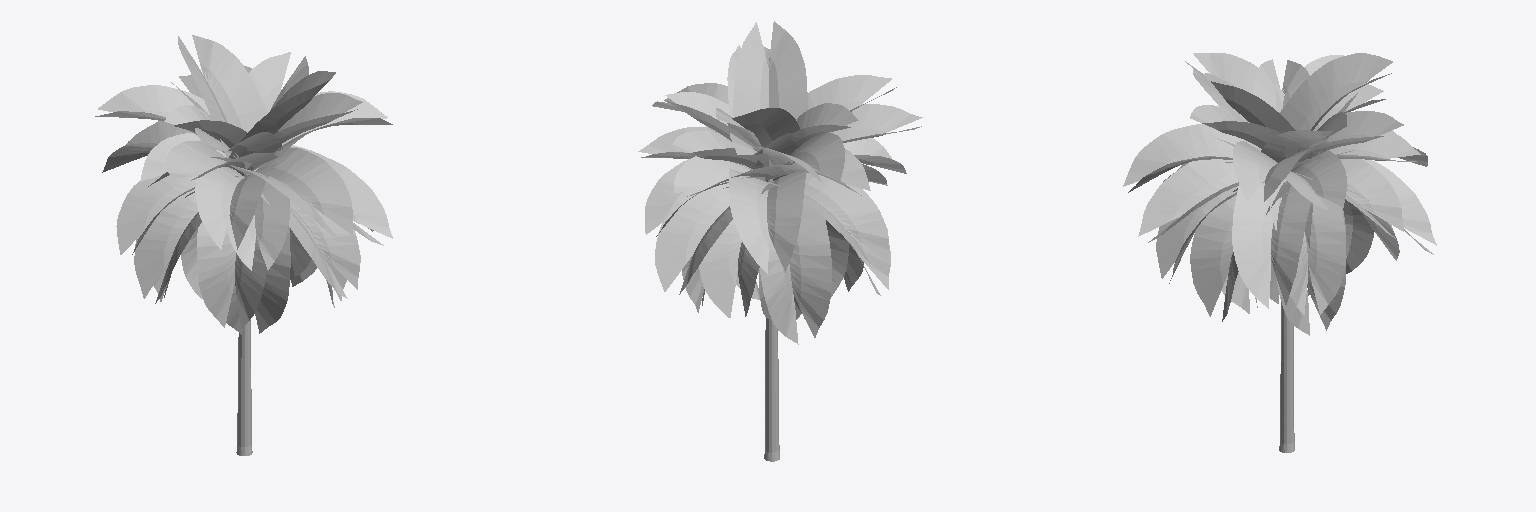
Rendered from BlenderPalmTreeObj.obj.
3 views of the same model, side by side, from view 1: azimuth 30°, elevation 25°; view 2: azimuth 150°, elevation 25°; view 3: azimuth 270°, elevation 25° (orthographic).
Parts seen in each view (by area): view 1: BlenderPalmTreeObj_leaves.004, BlenderPalmTreeObj_palm01.008; view 2: BlenderPalmTreeObj_leaves.004, BlenderPalmTreeObj_palm01.008; view 3: BlenderPalmTreeObj_leaves.004, BlenderPalmTreeObj_palm01.008.
Boxes of the visible parts, x1,y1,x2,y2 form: BlenderPalmTreeObj_leaves.004: [95, 35, 392, 334]; BlenderPalmTreeObj_palm01.008: [230, 167, 256, 455]; BlenderPalmTreeObj_leaves.004: [638, 21, 922, 344]; BlenderPalmTreeObj_palm01.008: [747, 164, 787, 461]; BlenderPalmTreeObj_leaves.004: [1123, 53, 1436, 335]; BlenderPalmTreeObj_palm01.008: [1276, 154, 1317, 452].
Size of the model in its own units: 245 by 372 by 268.